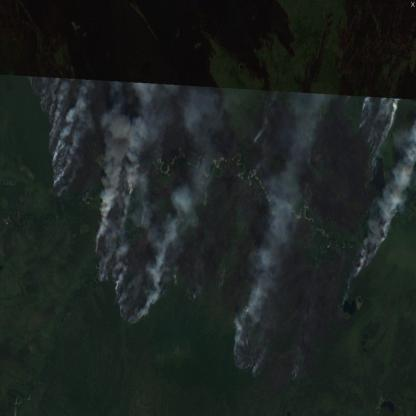fire: (24, 73, 416, 382)
